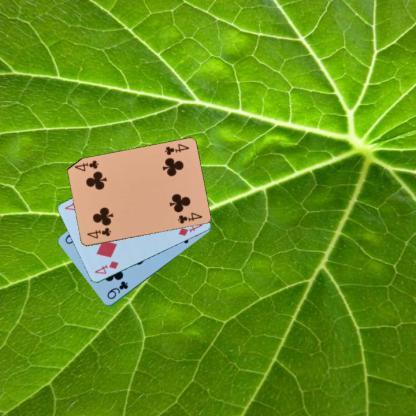4c: (84, 225, 112, 240), (162, 142, 190, 156)
4d: (92, 258, 119, 276)
9c: (104, 278, 130, 300)
